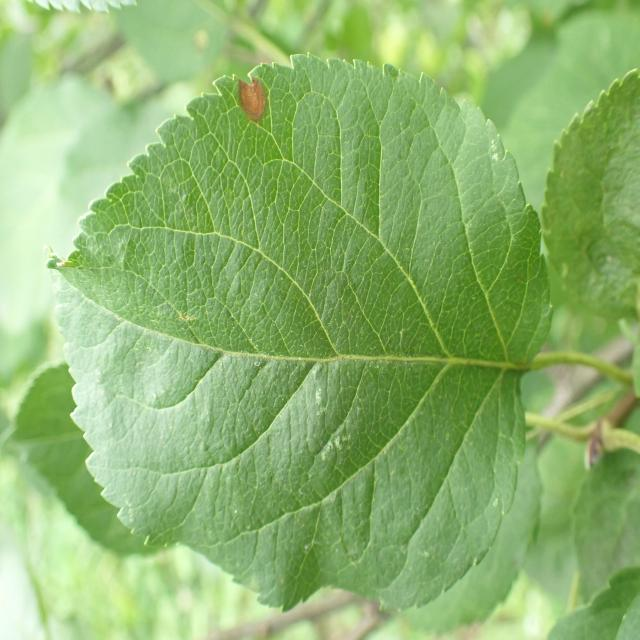frog-eye-leaf-spot: (44, 55, 554, 617)
